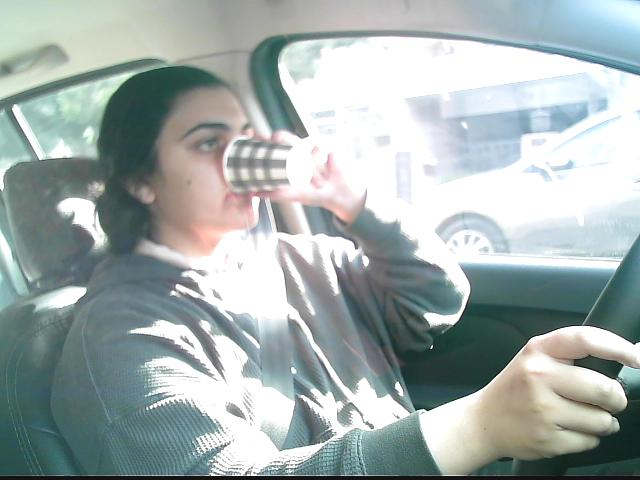Drinking: (219, 131, 316, 200)
